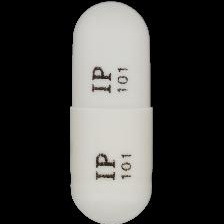43063-490: (0, 0, 224, 224)
